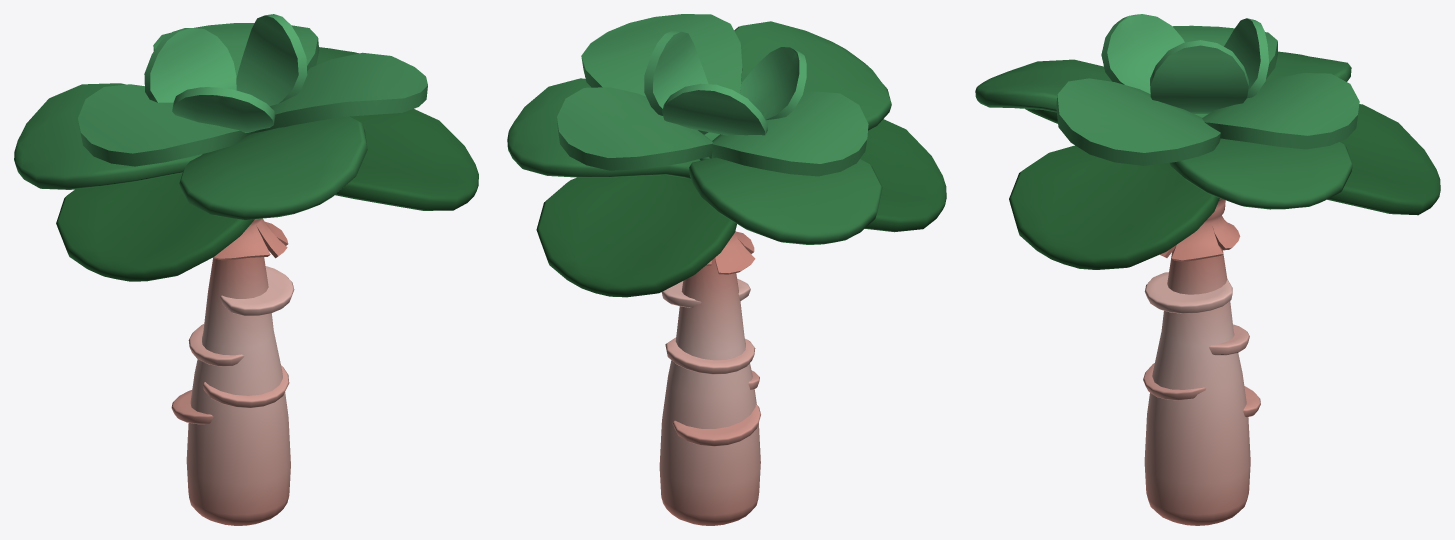
Rendered from CanoShroom2.fbx.
3 renders of one model, left to right at view 1: azimuth 30°, elevation 25°; view 2: azimuth 150°, elevation 25°; view 3: azimuth 270°, elevation 25°, orthographic. The views are drawn at different scales.
Parts seen in each view (by area): view 1: CanopyShroom2; view 2: CanopyShroom2; view 3: CanopyShroom2.
Boxes of the visible parts, box(x1,y1,x2,y2) form: CanopyShroom2: box(14, 14, 478, 525); CanopyShroom2: box(507, 14, 946, 525); CanopyShroom2: box(975, 14, 1440, 525).
Size of the model in its own units: 2338 by 2808 by 2390.
